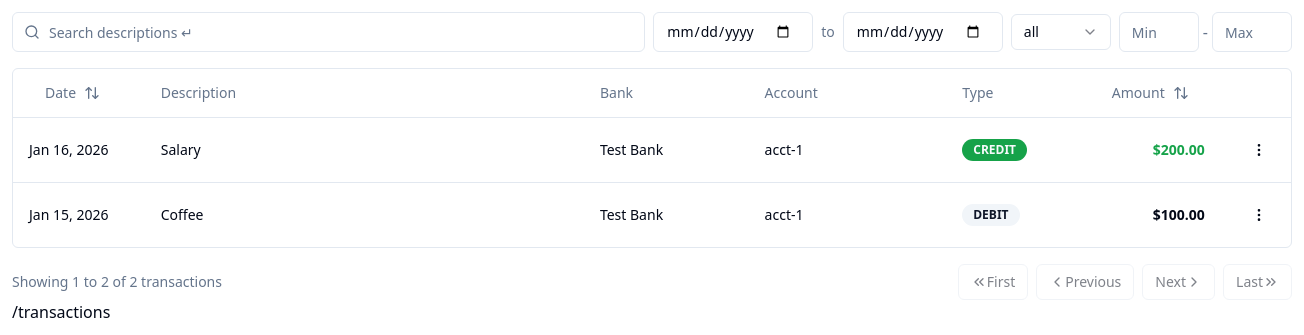
Test: TransactionTable permission gating › hides the select column and the Delete action when transactions:delete is missing
Click the button named "open menu" in the row of "Jan 16, 2026" at [1259, 150], box [1243,134,1275,166]
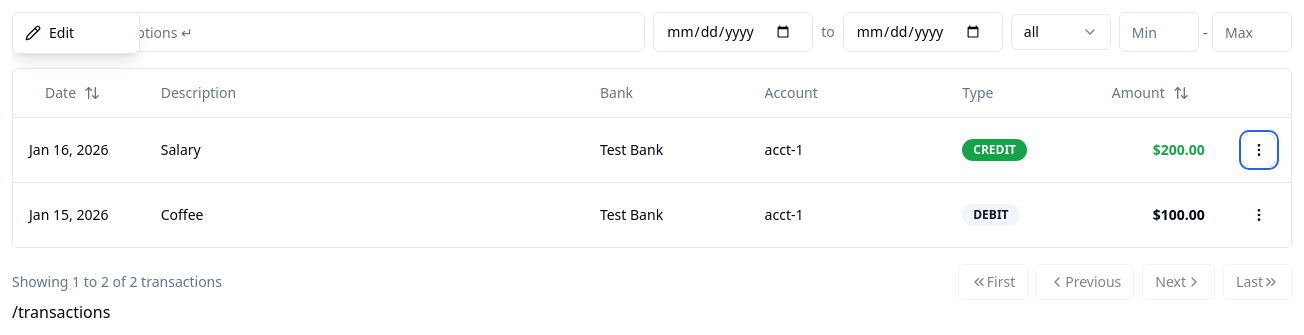
Now the menu item "Edit" is shown, box [17,17,135,49]
